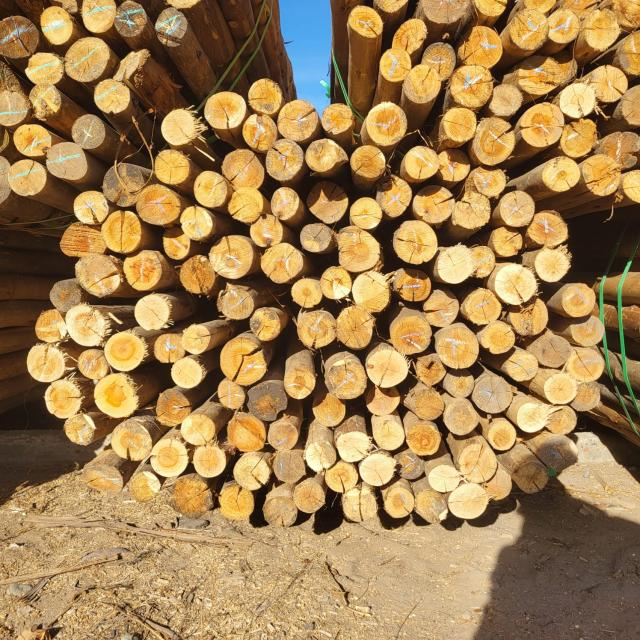package: (28, 78, 610, 525), (330, 1, 640, 212), (5, 1, 262, 226)
